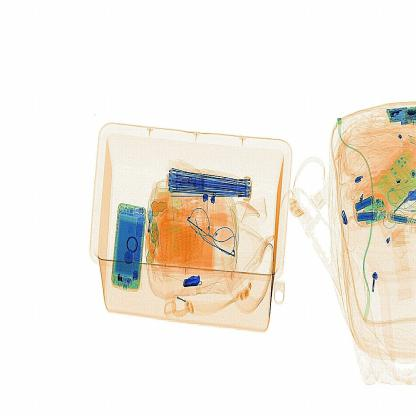knife: (183, 272, 208, 296)
